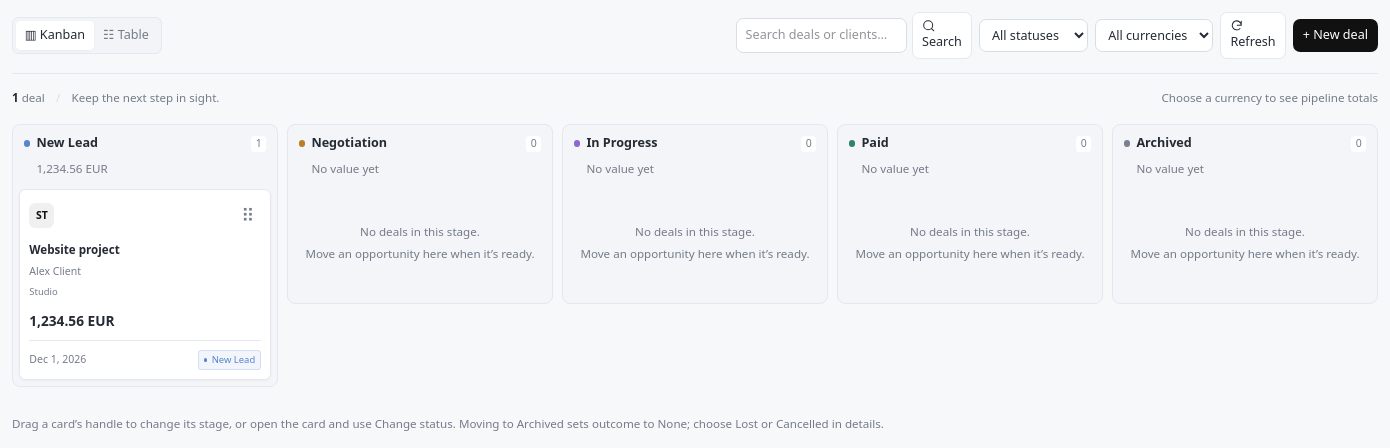
Scenario: renders all five stages, exact money, server totals and the table from real API DTOs
Check: the button with aria-label "Open Website project" is shown, box [29,241,261,299]
Check: the heading "New Lead" is shown, box [36,134,98,153]
Select "EUR" in the dropdown named "Filter by currency": point(1154, 36) [1095,19,1213,52]
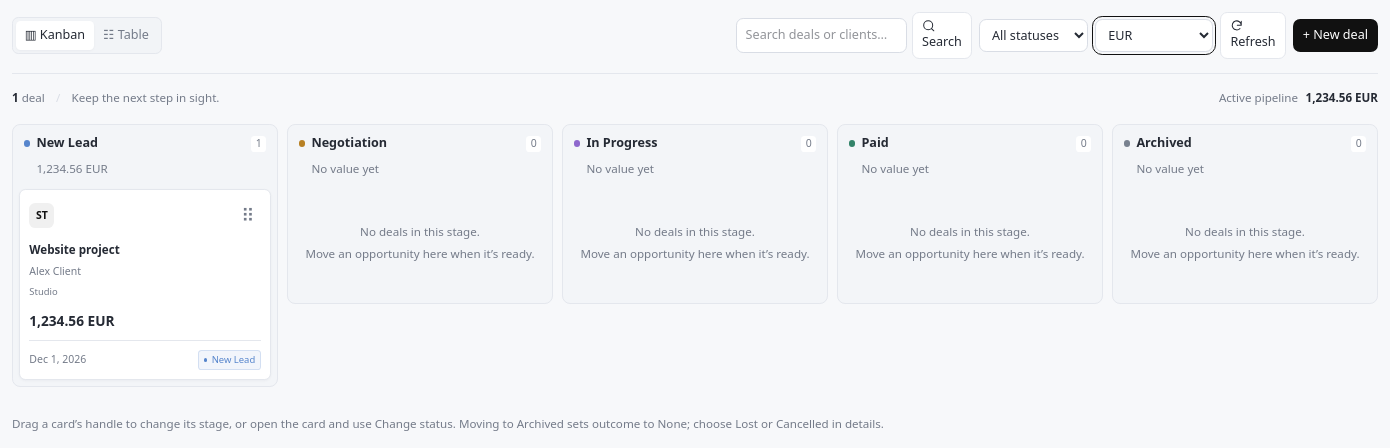
Check: the text "1,234.56 EUR" is shown 3 times, box [1306,90,1378,105]; [36,161,108,176]; [29,310,114,330]
Click the button "☷ Table": point(126, 36) [94,21,158,50]
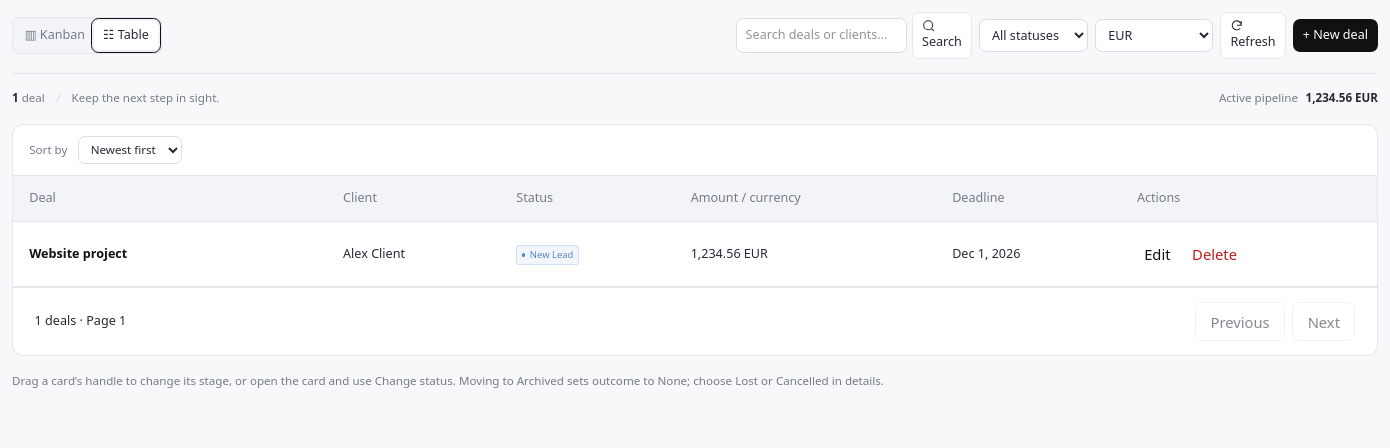
Check: the button "Website project" is shown, box [29,245,127,264]
Check: the table is shown, box [13,176,1377,287]
